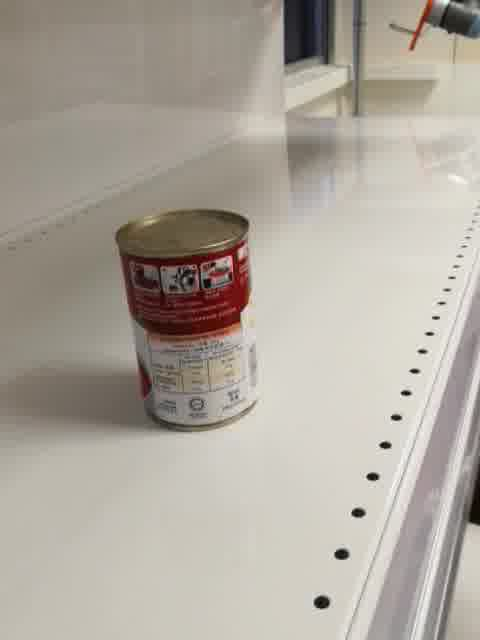tomatosoup: (110, 205, 263, 434)
